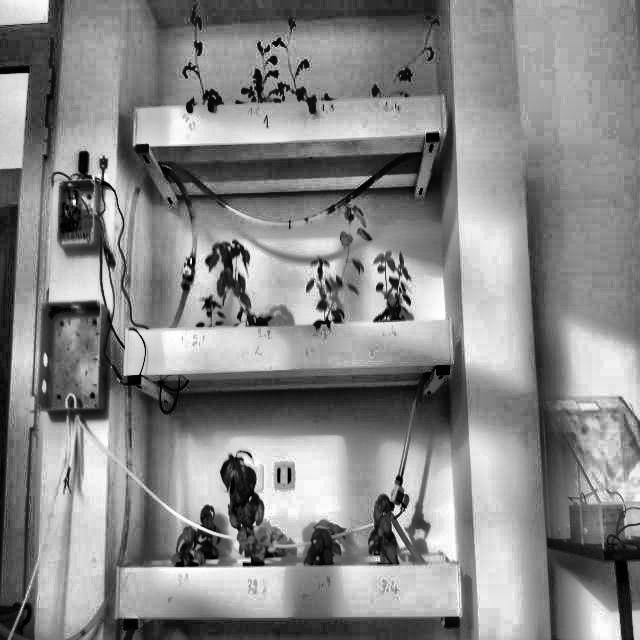plants: (321, 200, 376, 322), (370, 10, 446, 98), (202, 238, 274, 324), (216, 446, 268, 564), (177, 4, 227, 110), (276, 20, 338, 103), (374, 246, 414, 320), (233, 40, 278, 104), (366, 492, 403, 564), (307, 250, 342, 326), (195, 506, 224, 562), (302, 522, 340, 562), (170, 524, 202, 568), (196, 295, 224, 329)
